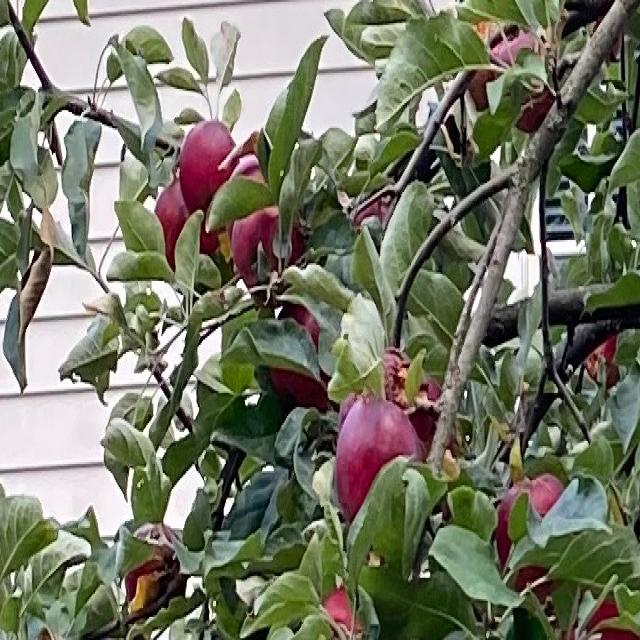Apples: (336, 396, 414, 524), (501, 475, 568, 590), (273, 306, 330, 407), (182, 119, 236, 222), (235, 201, 302, 284), (126, 528, 187, 610), (499, 39, 552, 130), (157, 182, 188, 268), (324, 587, 368, 638), (586, 332, 622, 388)
